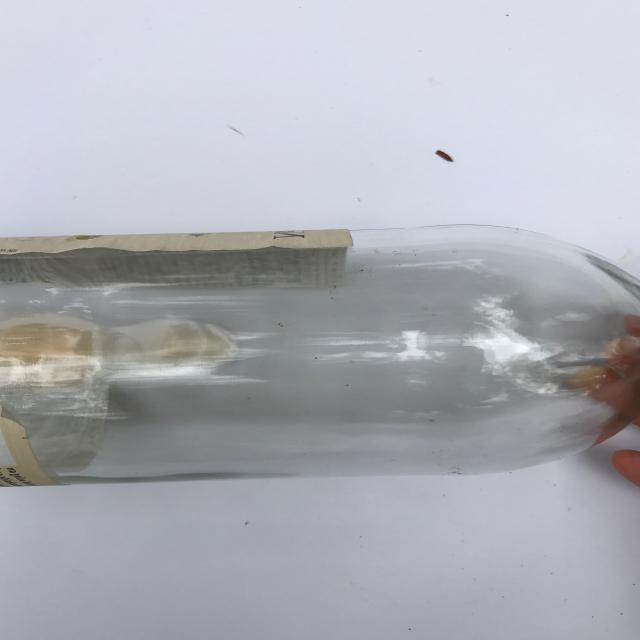glass: (0, 224, 640, 485)
